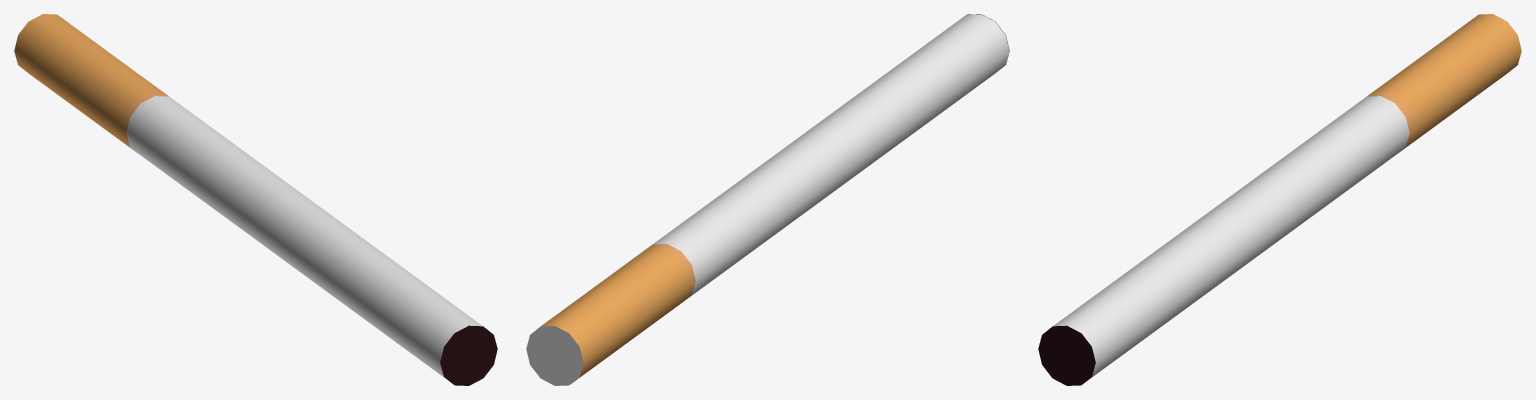
Rendered from Cigarette.fbx.
3 renders of one model, left to right at view 1: azimuth 30°, elevation 25°; view 2: azimuth 150°, elevation 25°; view 3: azimuth 330°, elevation 25°, orthographic.
Parts seen in each view (by area): view 1: Cigarette; view 2: Cigarette; view 3: Cigarette.
Boxes of the visible parts, <box> form: Cigarette: <box>14,14,497,385</box>; Cigarette: <box>526,14,1009,385</box>; Cigarette: <box>1038,14,1521,385</box>.
Bounding box in the file's own units: 0.007 × 0.007 × 0.09.
